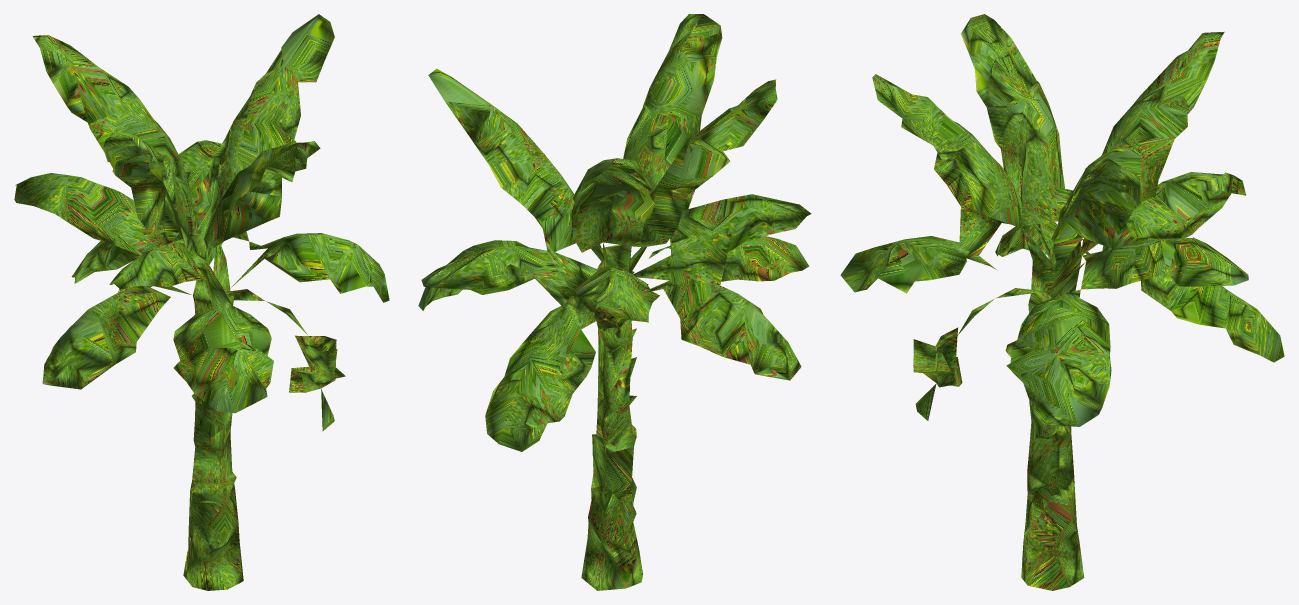
The model's file is banana.glb.
3 views of the same model, side by side, from view 1: azimuth 30°, elevation 25°; view 2: azimuth 150°, elevation 25°; view 3: azimuth 270°, elevation 25° (orthographic).
Size of the model in its own units: 1.4 by 1.89 by 1.52.
1 material, 1 textured.
